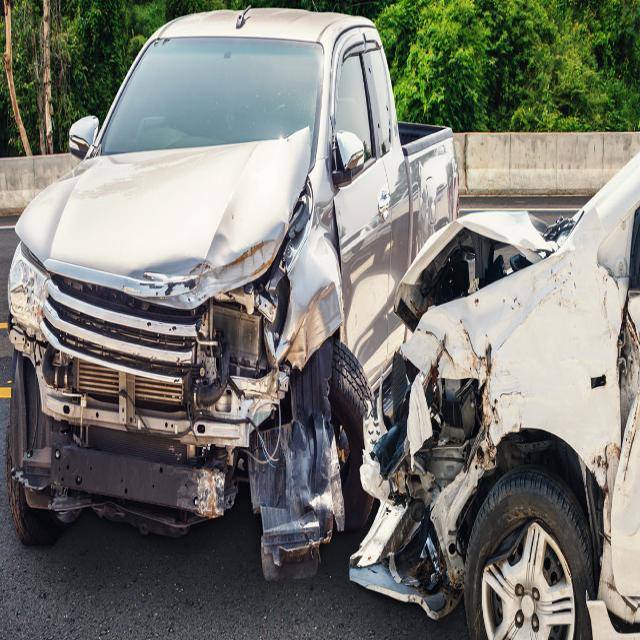car-moderate-accident: (22, 18, 638, 636)
